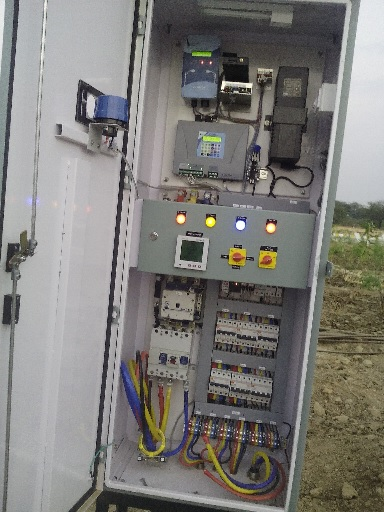Blue_Led_On: (233, 217, 249, 235)
Orange_Led_On: (172, 211, 190, 227), (264, 220, 280, 236)
Yellow_Led_On: (203, 216, 219, 230)
